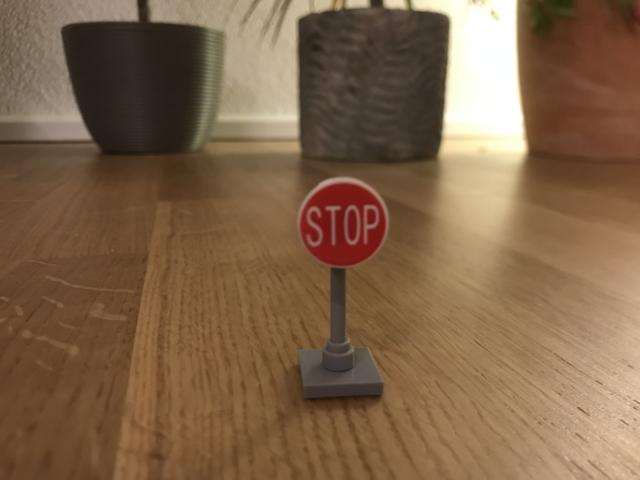stop: (297, 180, 392, 268)
